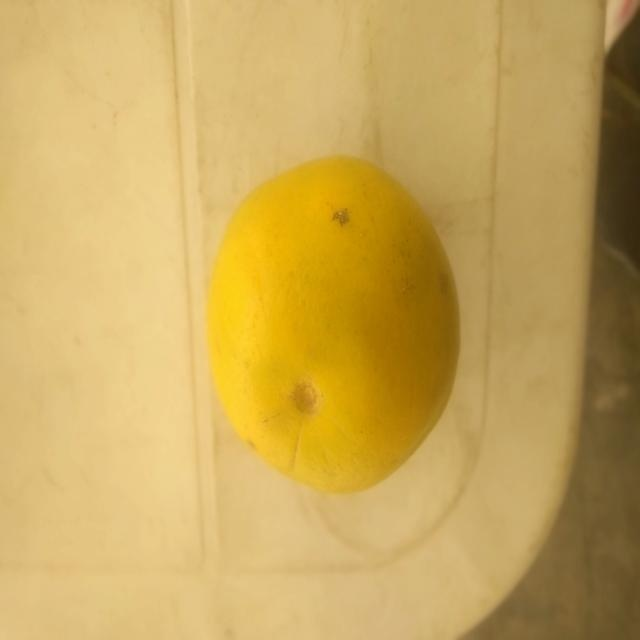agrume: (194, 142, 486, 513)
